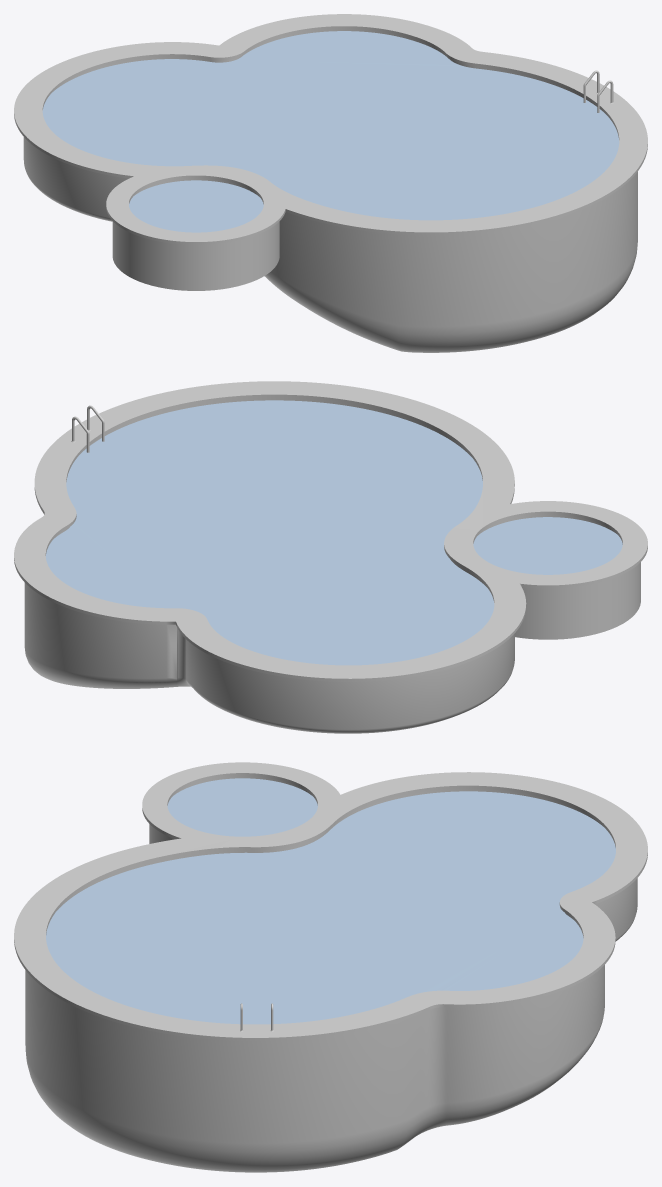
The model's file is Pool.obj.
3 views of the same model, one above another, from view 1: azimuth 30°, elevation 25°; view 2: azimuth 150°, elevation 25°; view 3: azimuth 270°, elevation 25° (orthographic). The views are drawn at different scales.
Parts seen in each view (by area): view 1: water, pool, poolTrim, ChamferCyl02; view 2: water, poolTrim, pool, ChamferCyl02; view 3: water, pool, poolTrim, ChamferCyl02.
Part boxes in pixels (box(x1,y1,x2,y2)): water: box(42, 31, 619, 232); pool: box(23, 29, 637, 352); poolTrim: box(14, 14, 647, 244); ChamferCyl02: box(112, 178, 279, 290); water: box(45, 400, 622, 665); poolTrim: box(14, 381, 647, 681); pool: box(24, 397, 514, 733); ChamferCyl02: box(478, 514, 640, 639); water: box(46, 778, 615, 1024); pool: box(25, 788, 637, 1172); poolTrim: box(14, 762, 647, 1040); ChamferCyl02: box(149, 776, 311, 843).
Size of what is drawn, in the model's own units: 105 by 31.29 by 102.
